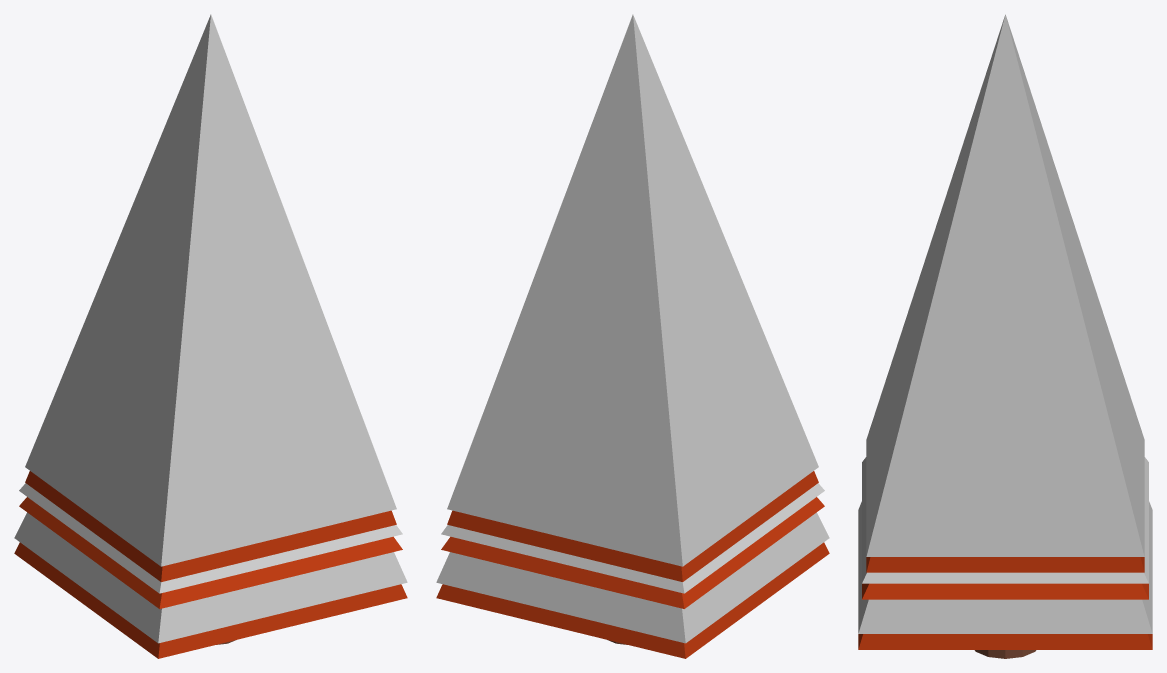
Rendered from Tree_34_winter_red_mat.fbx.
3 renders of one model, left to right at view 1: azimuth 30°, elevation 25°; view 2: azimuth 150°, elevation 25°; view 3: azimuth 270°, elevation 25°, orthographic. The views are drawn at different scales.
Visible parts, largest first — view 1: Tree_34_winter_red_mat; view 2: Tree_34_winter_red_mat; view 3: Tree_34_winter_red_mat.
Boxes of the visible parts, box(x1,y1,x2,y2) form: Tree_34_winter_red_mat: box(14, 14, 407, 658); Tree_34_winter_red_mat: box(436, 14, 829, 658); Tree_34_winter_red_mat: box(858, 14, 1152, 658).
Size of the model in its own units: 83.78 by 198 by 83.78.
